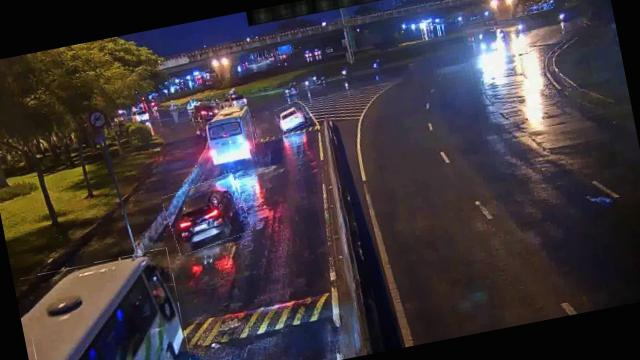Bus: (20, 248, 195, 360), (202, 105, 258, 170)
Car: (162, 174, 252, 254), (274, 100, 309, 134), (192, 98, 222, 123)
